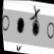correct: (12, 11, 28, 41)
not correct: (25, 5, 45, 44)
